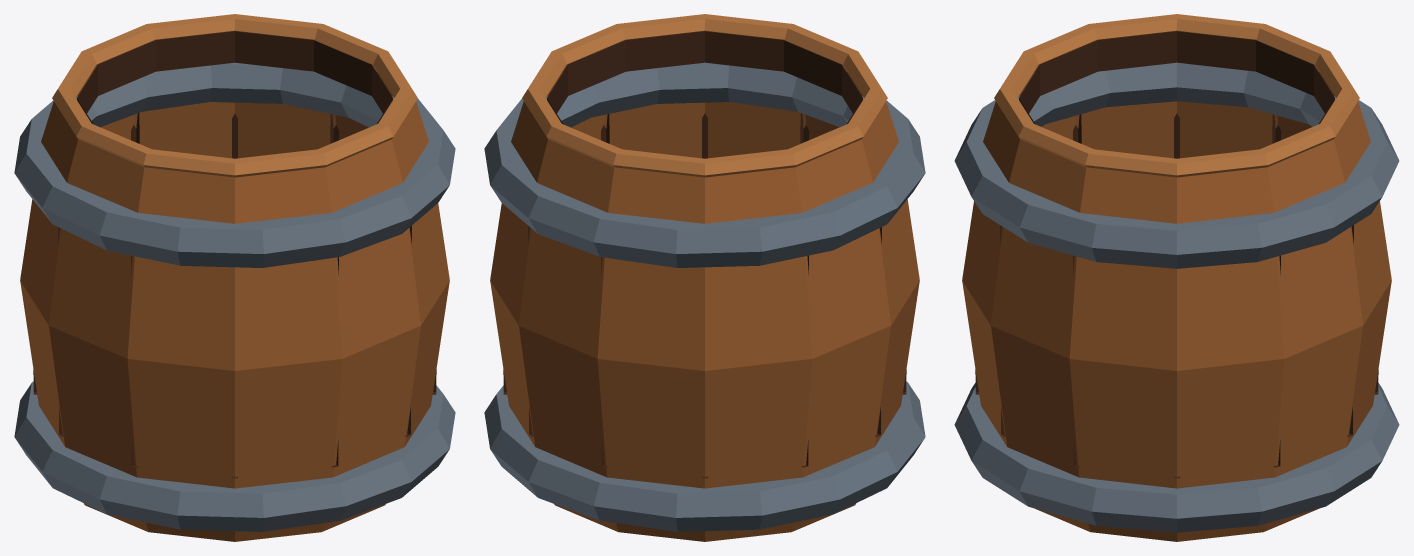
The model's file is kit_open_barrel.glb.
3 views of the same model, side by side, from view 1: azimuth 30°, elevation 25°; view 2: azimuth 150°, elevation 25°; view 3: azimuth 270°, elevation 25° (orthographic).
Visible parts, largest first — view 1: Open barrel staves, Open barrel iron hoop.001, Open barrel iron hoop, Open barrel rim, Barrel inner lip; view 2: Open barrel staves, Open barrel iron hoop.001, Open barrel iron hoop, Open barrel rim, Barrel inner lip; view 3: Open barrel staves, Open barrel iron hoop.001, Open barrel iron hoop, Open barrel rim, Barrel inner lip.
Part boxes in pixels (box(x1,y1,x2,y2)): Open barrel staves: box(20, 72, 449, 541); Open barrel iron hoop.001: box(14, 62, 455, 267); Open barrel iron hoop: box(14, 381, 455, 531); Open barrel rim: box(52, 14, 417, 177); Barrel inner lip: box(77, 31, 392, 123); Open barrel staves: box(490, 72, 919, 541); Open barrel iron hoop.001: box(484, 62, 925, 267); Open barrel iron hoop: box(484, 381, 925, 531); Open barrel rim: box(522, 14, 887, 177); Barrel inner lip: box(547, 31, 862, 123); Open barrel staves: box(962, 72, 1391, 541); Open barrel iron hoop.001: box(954, 62, 1399, 268); Open barrel iron hoop: box(954, 383, 1399, 532); Open barrel rim: box(994, 14, 1359, 177); Barrel inner lip: box(1019, 31, 1334, 123).
Size of the model in its own units: 0.642 by 0.6047 by 0.642.
